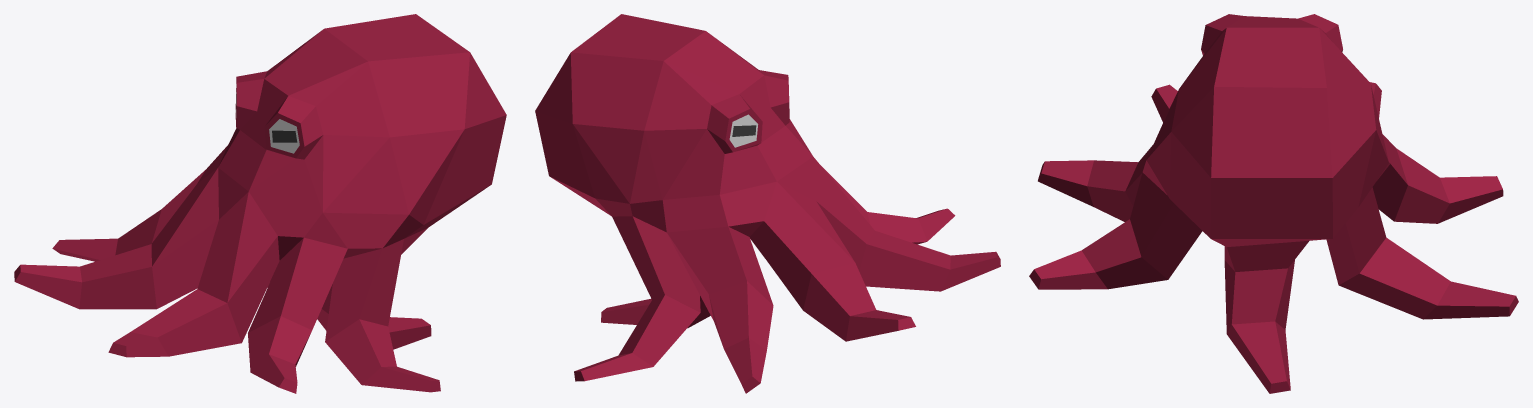
File: frame_03.fbx
3 renders of one model, left to right at view 1: azimuth 30°, elevation 25°; view 2: azimuth 150°, elevation 25°; view 3: azimuth 270°, elevation 25°, orthographic. The views are drawn at different scales.
Visible parts, largest first — view 1: Octopus.003; view 2: Octopus.003; view 3: Octopus.003.
Part boxes in pixels (x1=…): Octopus.003: x1=14, y1=14, x2=506, y2=393; Octopus.003: x1=535, y1=14, x2=1000, y2=393; Octopus.003: x1=1029, y1=14, x2=1518, y2=393.
Bounding box in the file's own units: 6.66 × 4.7 × 6.45.
